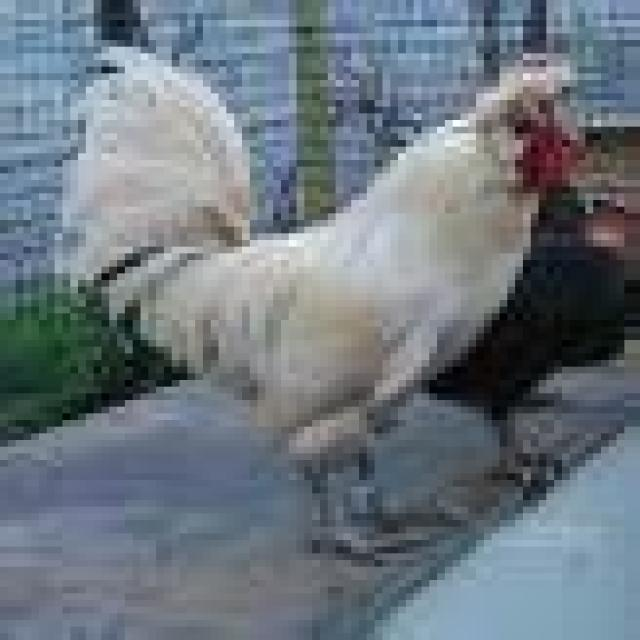animal: (62, 47, 586, 560)
